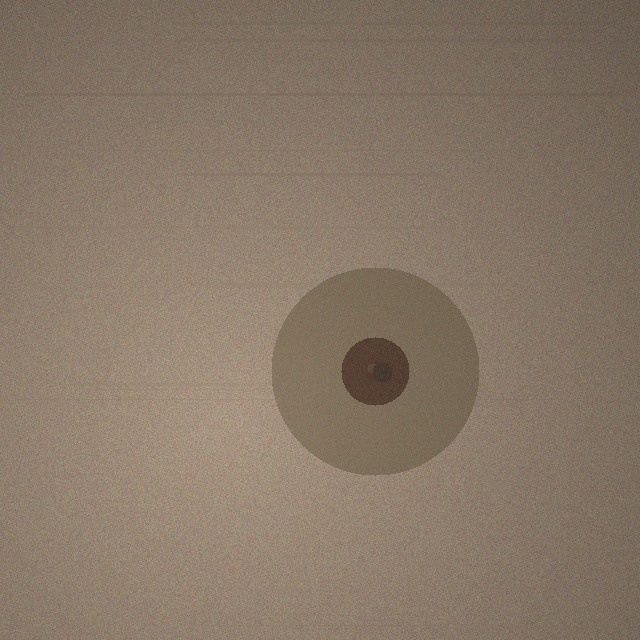cold_weld: (271, 267, 479, 475)
